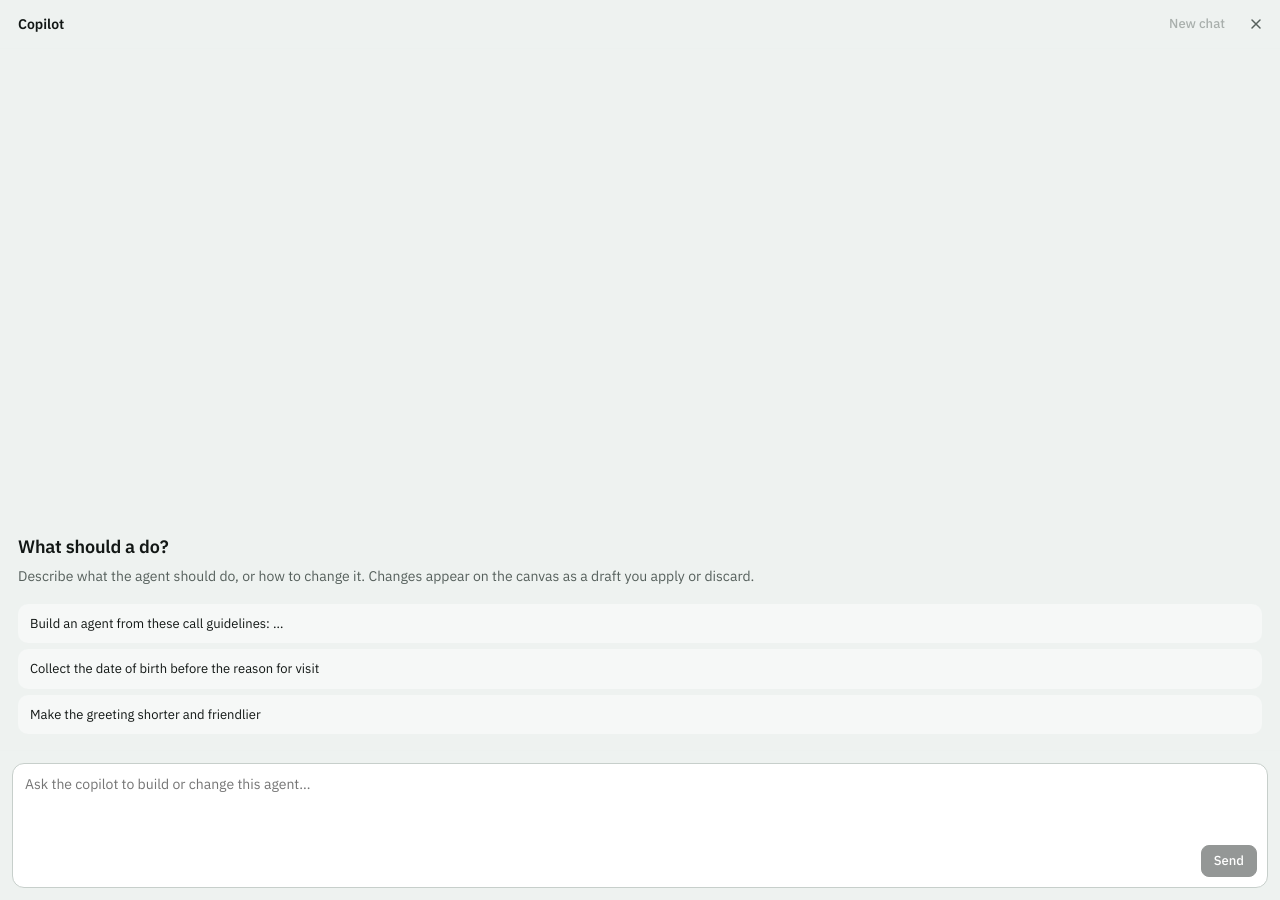
Test: CopilotPanel › Stop ends the turn and re-enables the input
Type "go" into the text box named "Message to the copilot" at (640, 806), box [23,774,1257,837]
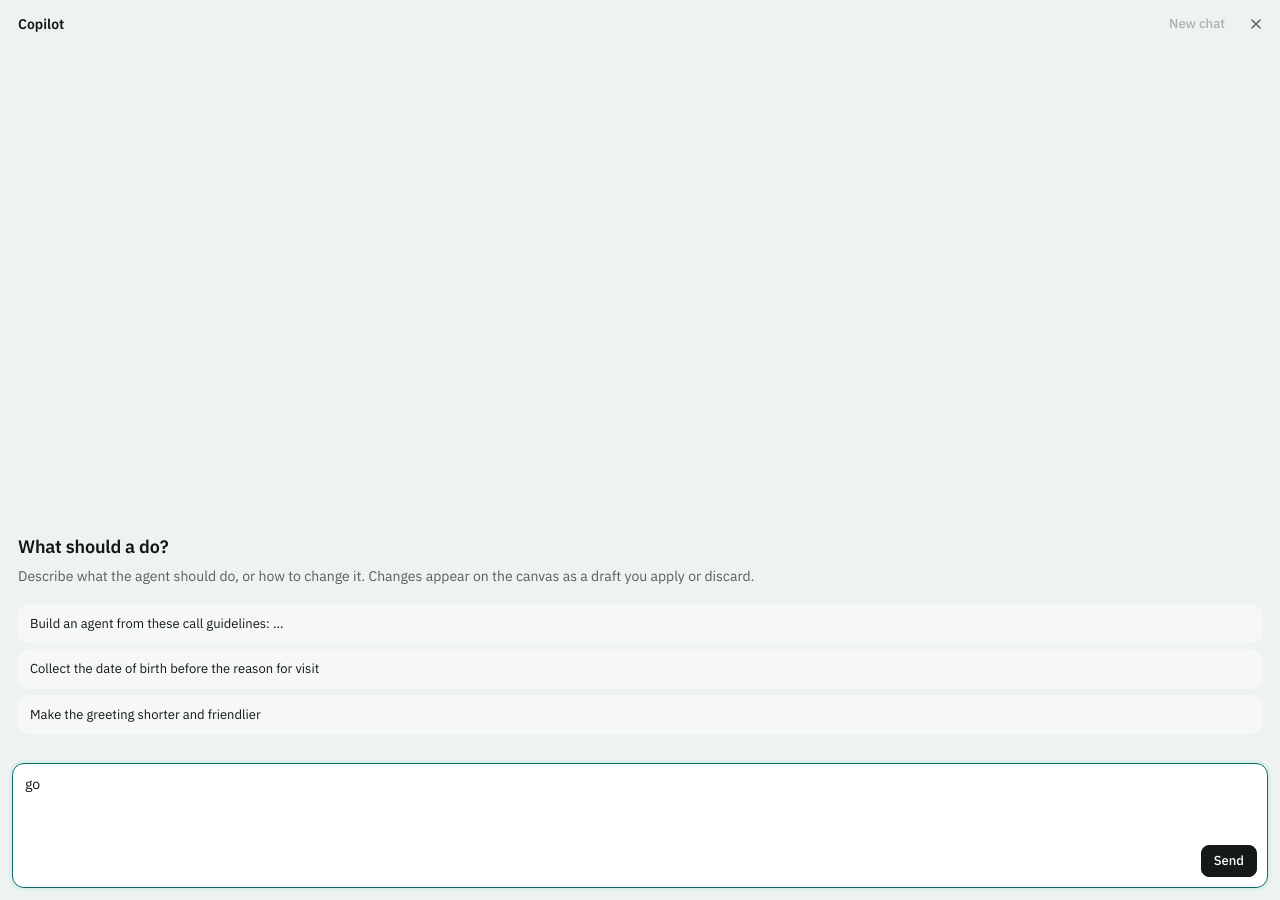
Click the button "Send" at (1229, 861), box [1201,845,1257,877]
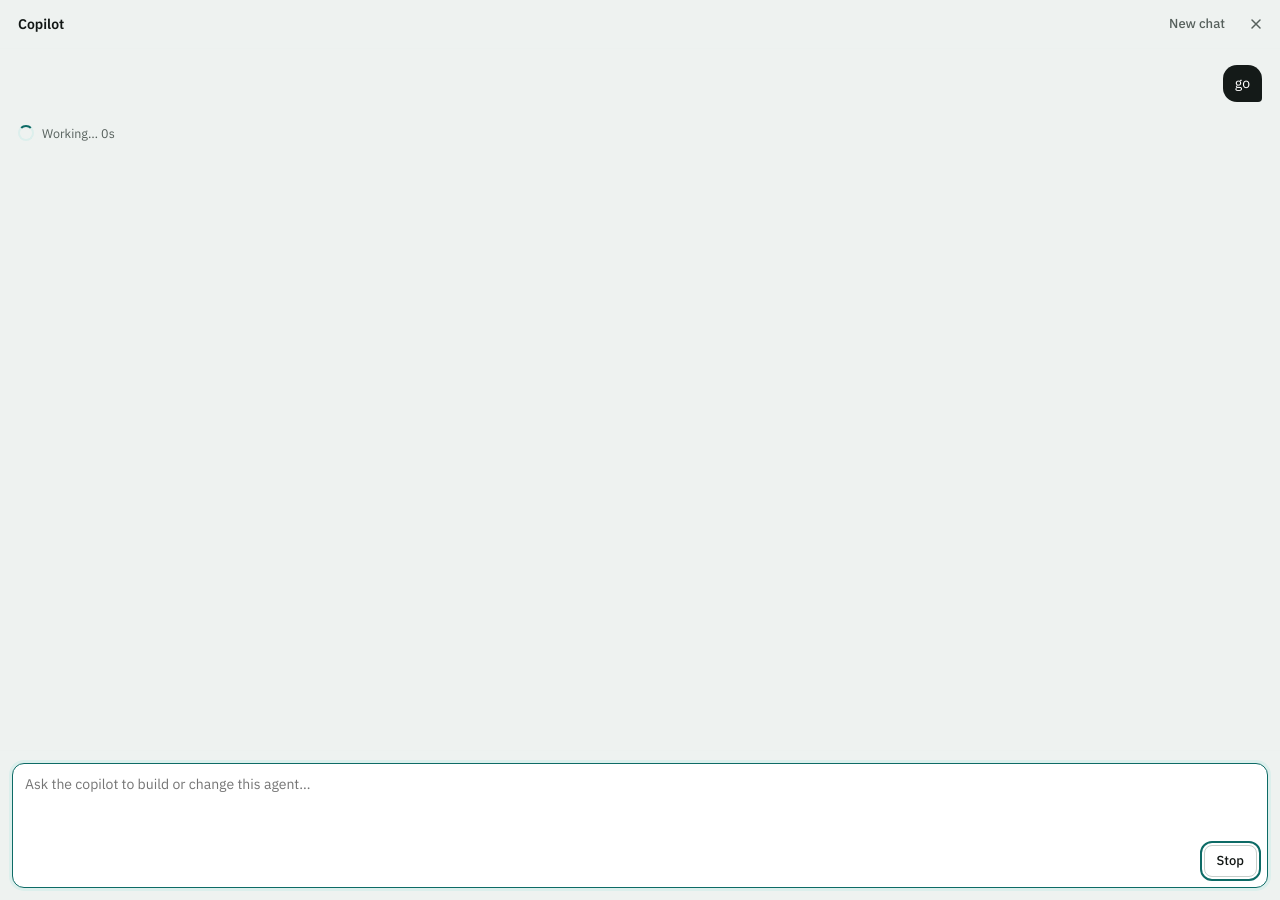
Click the button "Stop" at (1230, 861), box [1204,845,1257,877]
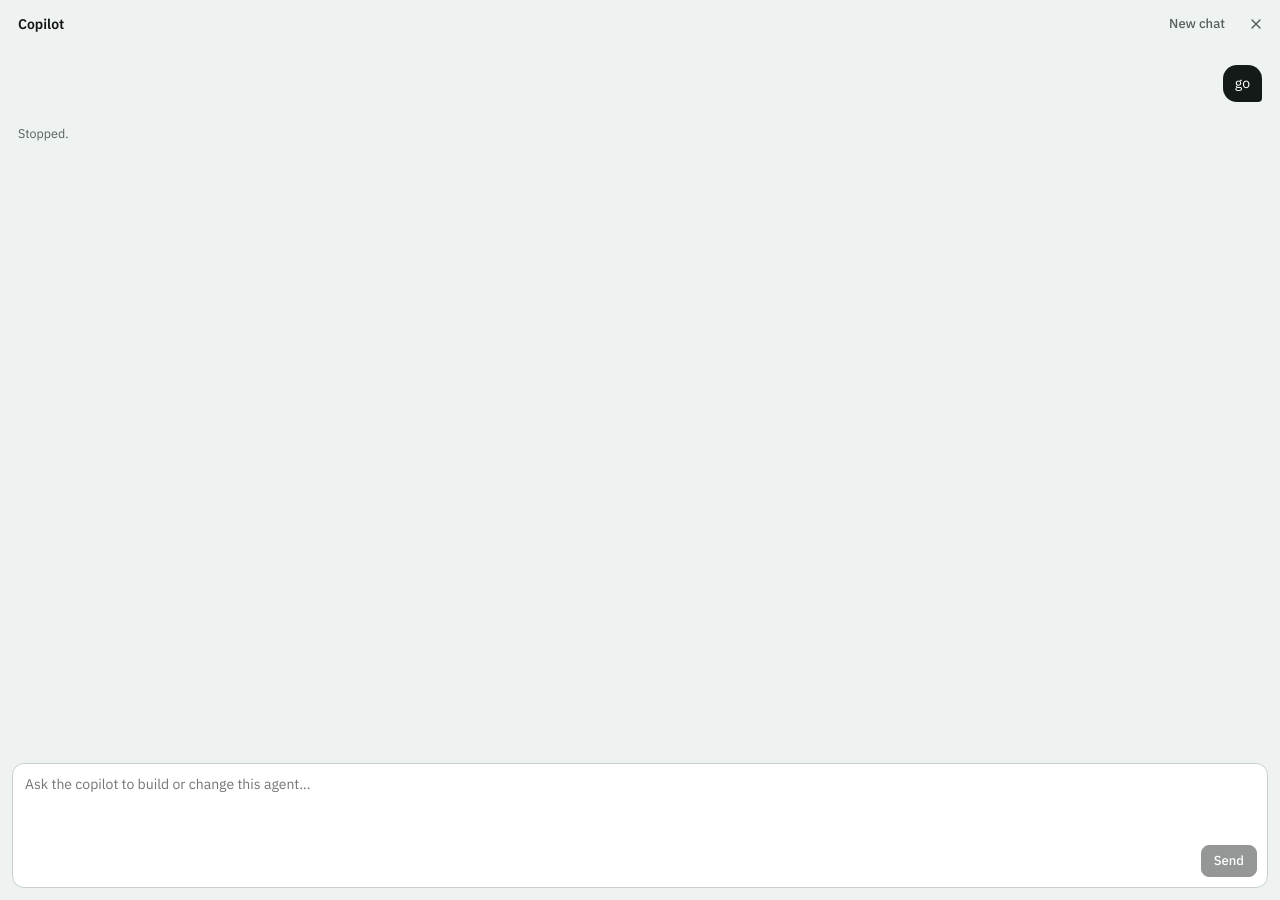
Expected: the text box named "Message to the copilot" is enabled, [23,774,1257,837]
Now the text "Stopped." is shown, box [18,125,69,141]
Now the button "Send" is shown, box [1201,845,1257,877]
